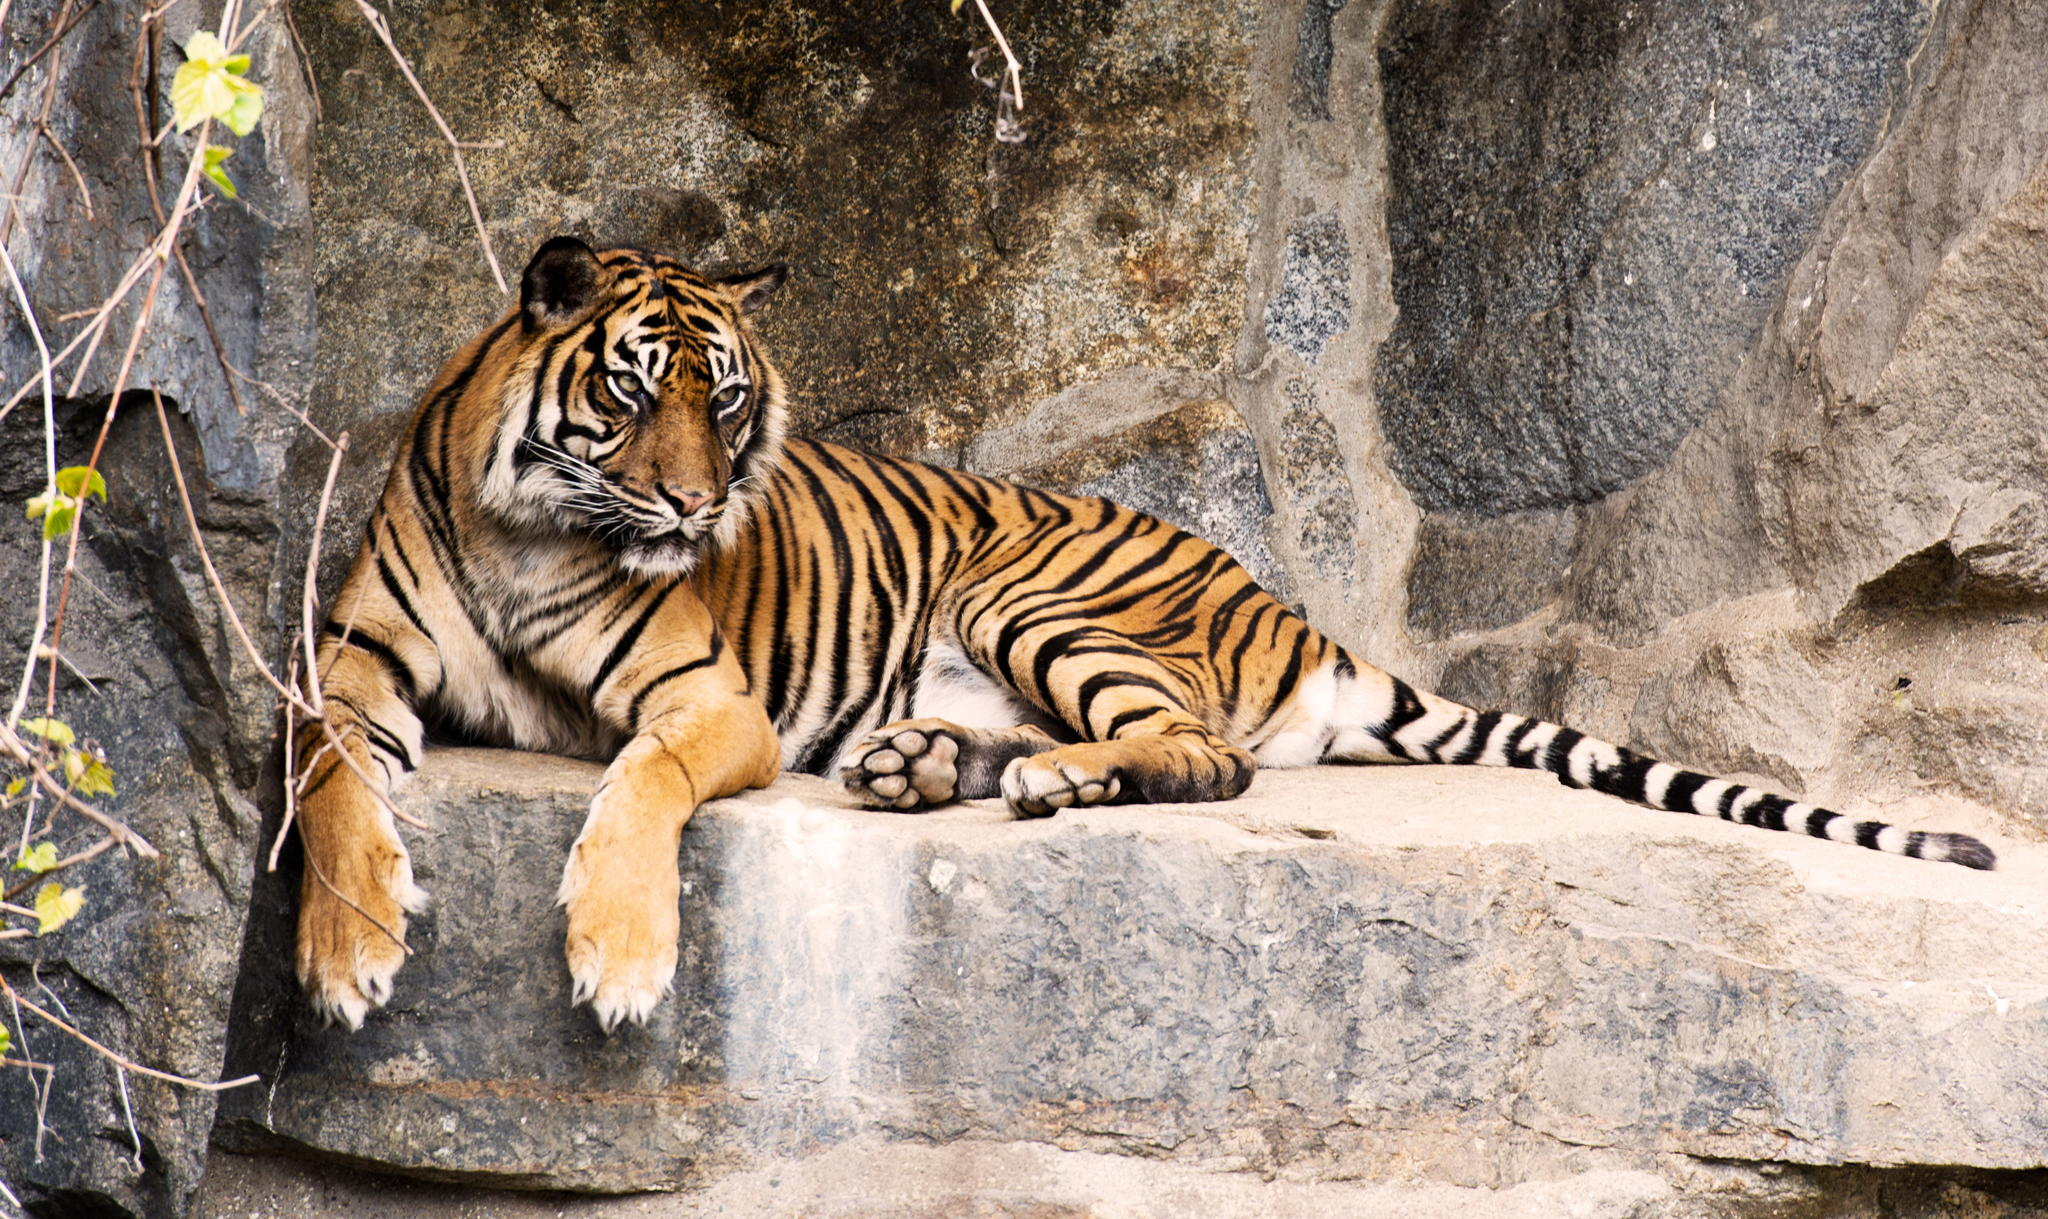tiger: (307, 229, 1611, 879)
